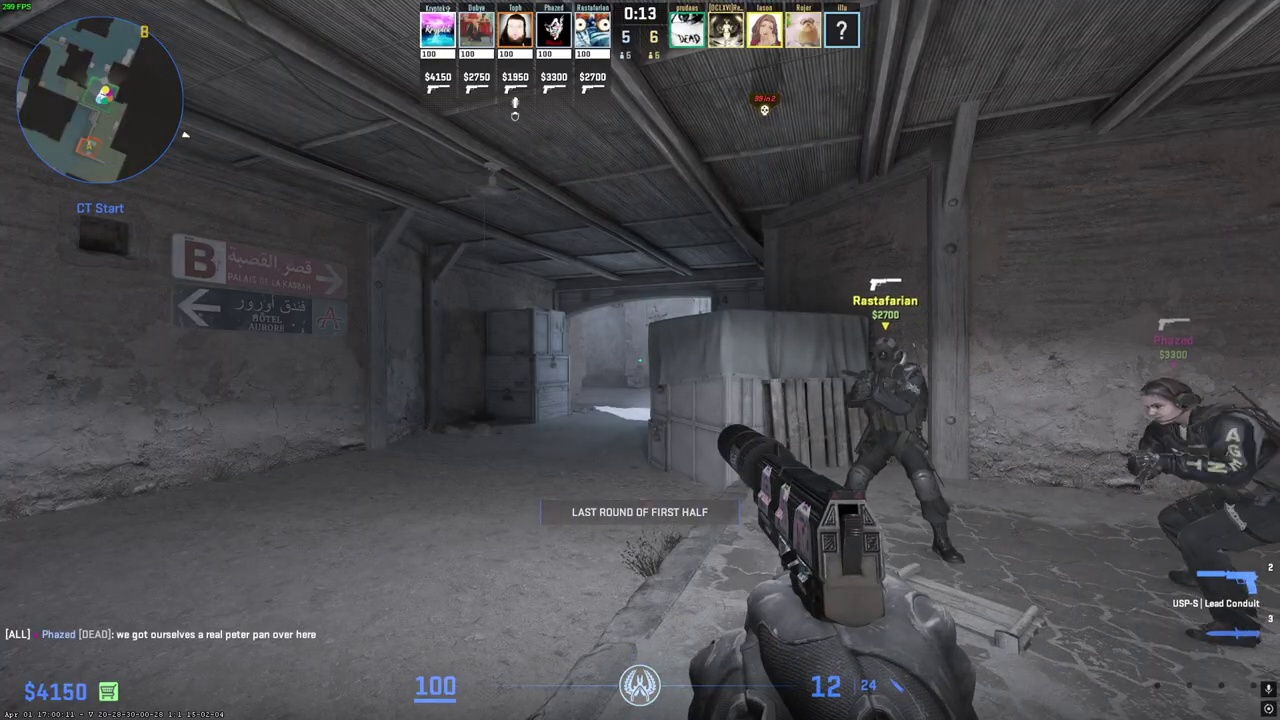CT: (1134, 377, 1279, 648), (843, 336, 958, 564)
